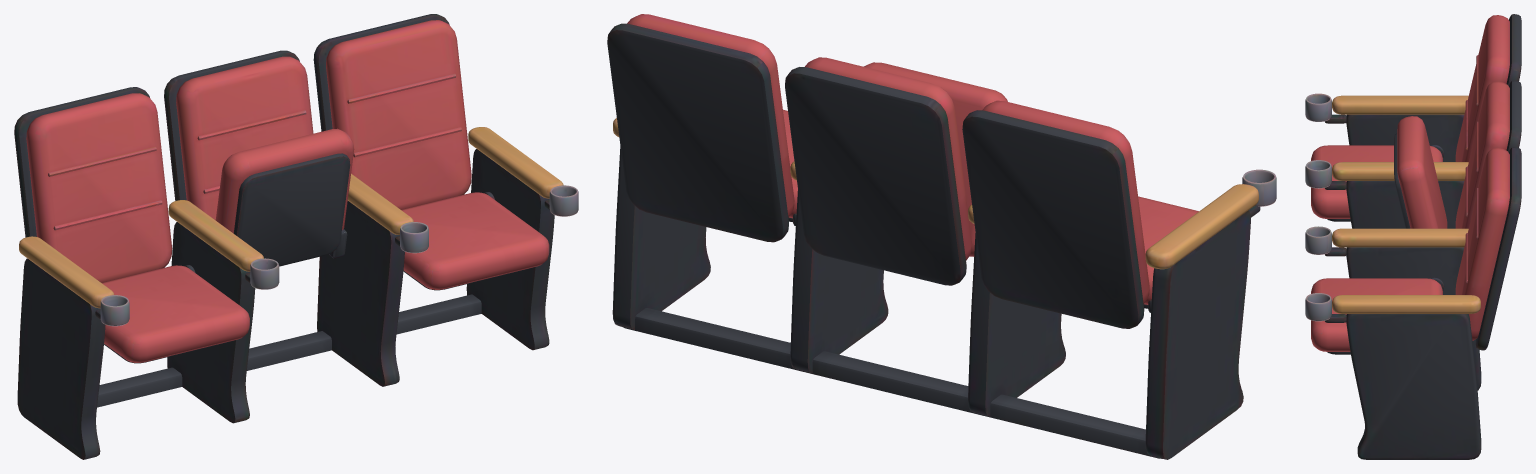
Rendered from seat.glb.
3 renders of one model, left to right at view 1: azimuth 30°, elevation 25°; view 2: azimuth 150°, elevation 25°; view 3: azimuth 270°, elevation 25°, orthographic. The views are drawn at different scales.
Visible parts, largest first — view 1: cinema-seat_body, cinema-seat_seat_middle, cinema-seat_seat_left, cinema-seat_seat_right; view 2: cinema-seat_body, cinema-seat_seat_middle, cinema-seat_seat_left; view 3: cinema-seat_body, cinema-seat_seat_middle, cinema-seat_seat_right, cinema-seat_seat_left.
Part boxes in pixels (x1=…): cinema-seat_body: x1=14, y1=14, x2=578, y2=459; cinema-seat_seat_middle: x1=215, y1=128, x2=354, y2=266; cinema-seat_seat_left: x1=102, y1=265, x2=249, y2=363; cinema-seat_seat_right: x1=401, y1=192, x2=549, y2=290; cinema-seat_body: x1=607, y1=14, x2=1276, y2=459; cinema-seat_seat_middle: x1=864, y1=62, x2=1007, y2=256; cinema-seat_seat_left: x1=1138, y1=196, x2=1198, y2=312; cinema-seat_body: x1=1305, y1=14, x2=1521, y2=459; cinema-seat_seat_middle: x1=1394, y1=116, x2=1447, y2=228; cinema-seat_seat_right: x1=1311, y1=277, x2=1444, y2=354; cinema-seat_seat_left: x1=1311, y1=145, x2=1443, y2=221.
Bounding box in the file's own units: 1.77 × 1 × 0.7695.
4 materials, 4 textured.
